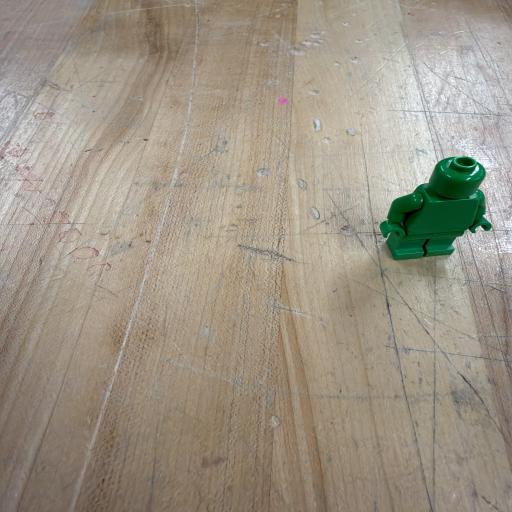Green-Lego: (380, 156, 492, 260)
